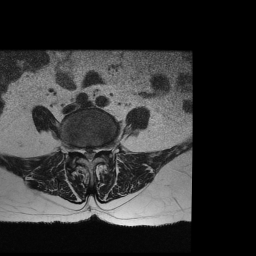CCS_severe_stenosis: (87, 146, 92, 165)
LFS_stenosis: (97, 141, 102, 156)
LLS_stenosis: (92, 145, 97, 162)
RFS_stenosis: (76, 142, 83, 158)
RLS_stenosis: (82, 145, 87, 162)
